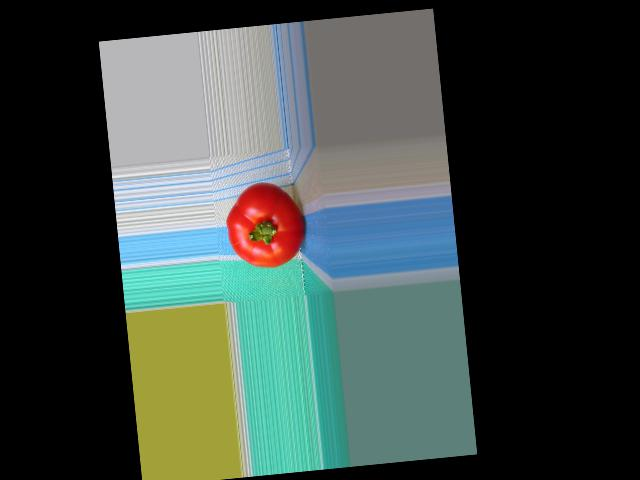tomato: (223, 179, 308, 271)
